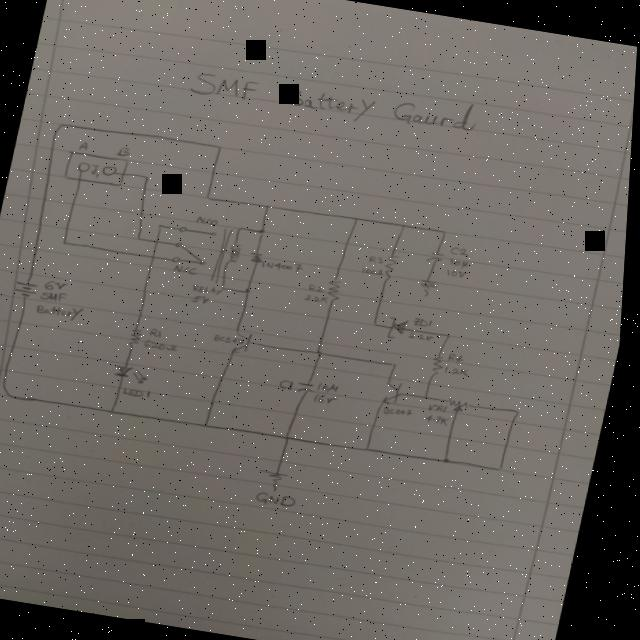capacitor: (428, 250, 449, 265), (300, 381, 321, 395)
crossover: (152, 254, 160, 260), (156, 238, 163, 244)
diode: (116, 364, 156, 386), (389, 316, 413, 340), (250, 250, 268, 264)
ground: (260, 468, 296, 493), (420, 278, 443, 298)
junction: (3, 384, 22, 399), (53, 120, 67, 132), (446, 456, 457, 464), (318, 349, 330, 356), (247, 287, 257, 295), (206, 195, 217, 202), (113, 408, 122, 416), (375, 320, 384, 328), (288, 434, 298, 441), (260, 228, 270, 235), (137, 235, 147, 242), (448, 333, 457, 340), (401, 223, 410, 230), (145, 174, 154, 181), (63, 240, 72, 247), (426, 394, 436, 400), (518, 409, 528, 415), (216, 144, 226, 150), (207, 422, 216, 428), (368, 446, 377, 452), (501, 466, 510, 472), (393, 362, 402, 367), (354, 216, 361, 222), (443, 230, 451, 235), (266, 204, 274, 209), (160, 223, 165, 228)
resistor: (327, 277, 348, 303), (384, 254, 403, 282), (449, 396, 478, 414), (433, 354, 450, 377), (131, 328, 147, 348)
source: (17, 279, 44, 300)
terminal: (103, 165, 120, 178), (78, 161, 93, 173)
text: (186, 59, 484, 141), (38, 301, 88, 322), (259, 490, 304, 509), (263, 258, 308, 274), (147, 338, 184, 352), (387, 404, 419, 418), (194, 283, 227, 296), (216, 333, 249, 346), (42, 289, 72, 303), (174, 262, 204, 276), (428, 413, 456, 427), (126, 386, 156, 399), (46, 279, 73, 293), (317, 392, 343, 406), (447, 366, 475, 378), (307, 292, 332, 304), (197, 215, 222, 227), (321, 381, 344, 394), (451, 257, 473, 270), (411, 332, 439, 342), (415, 316, 437, 328), (450, 352, 470, 365), (449, 268, 472, 279), (281, 378, 299, 392), (452, 246, 474, 257), (432, 403, 454, 414), (310, 282, 329, 294), (194, 293, 213, 305), (91, 162, 105, 178), (364, 266, 387, 275), (152, 326, 168, 338), (117, 146, 133, 158), (371, 254, 388, 264), (79, 140, 91, 151)
transistor: (383, 378, 408, 408), (232, 329, 258, 356)
